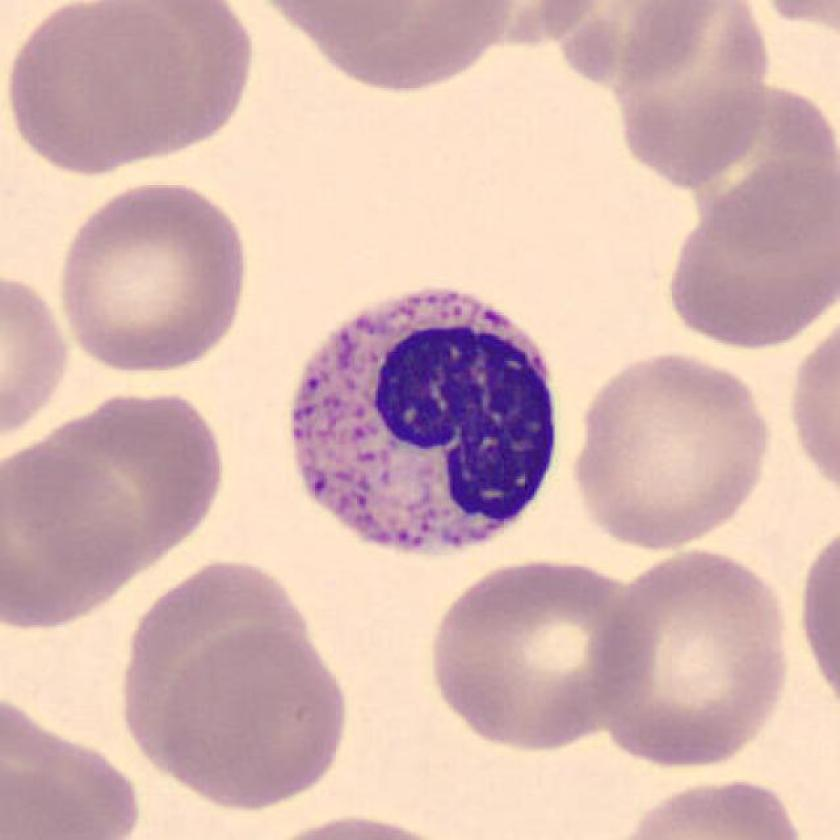neutrophil: (295, 294, 556, 555)
